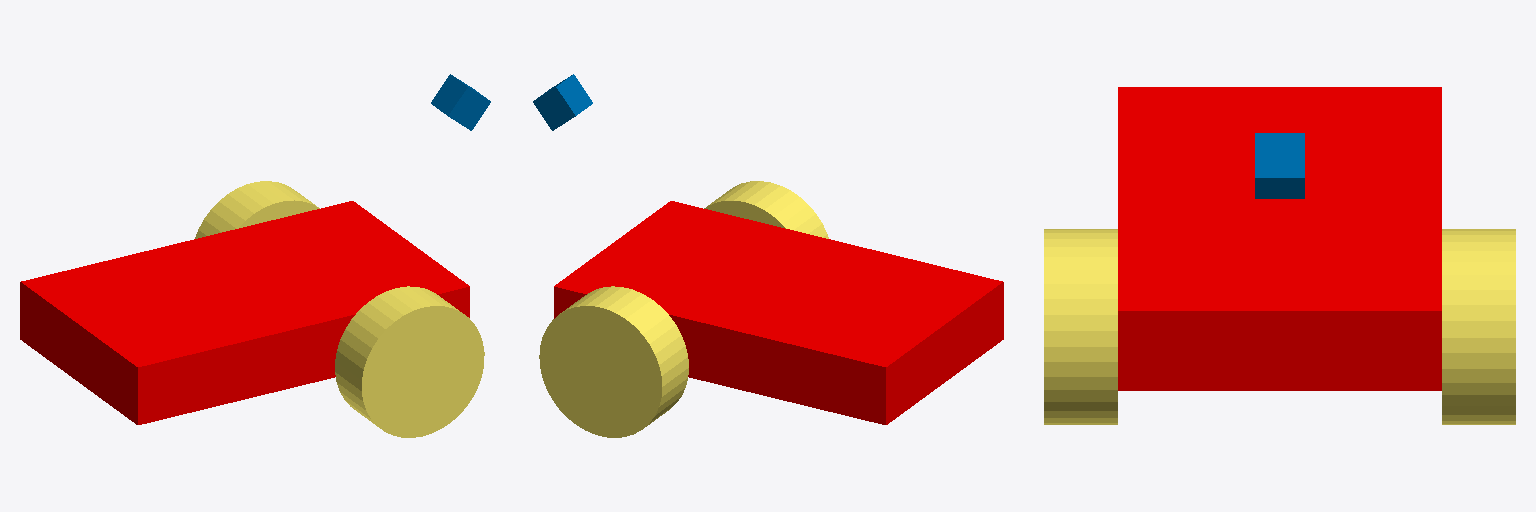
robot.urdf — mobile_bot:
<robot
  name="mobile_bot">
  
<gazebo reference="camera">
    <material>Gazebo/Green</material>
    <sensor name="camera_1" type="camera">
      <update_rate>30</update_rate>
      <camera name="head">
        <horizontal_fov>2.0</horizontal_fov>
        <image>
          <width>640</width>
          <height>480</height>
          <format>B8G8R8</format>
        </image>
        <clip>
          <near>0.1</near>
          <far>200</far>
        </clip>
      </camera>
      <plugin filename="libgazebo_ros_camera.so" name="camera_controller">
        <alwaysOn>true</alwaysOn>
        <updateRate>0.0</updateRate>
        <cameraName>camera_node</cameraName>
        <imageTopicName>image/raw</imageTopicName>
        <cameraInfoTopicName>camera_info</cameraInfoTopicName>
        <frameName>camera</frameName>
        <hackBaseline>0.07</hackBaseline>
      </plugin>
    </sensor>
  </gazebo>


  <!--gazebo>
    <plugin filename="libgazebo_ros_diff_drive.so" name="differential_drive_controller">
      <legacyMode>false</legacyMode>
      <alwaysOn>true</alwaysOn>
      <updateRate>30</updateRate>
      <leftJoint>left_wheel_joint</leftJoint>
      <rightJoint>right_wheel_joint</rightJoint>
      <wheelSeparation>0.4</wheelSeparation>
      <wheelDiameter>0.2</wheelDiameter>
      <torque>100</torque>
      <commandTopic>cmd_vel</commandTopic>
      <odometryTopic>odom</odometryTopic>
      <odometryFrame>odom</odometryFrame>
      <robotBaseFrame>base_link</robotBaseFrame>
    </plugin>
  </gazebo-->


  <gazebo reference="base_link">
    <material>Gazebo/Red</material>
    <maxVel>0.0</maxVel>
    <minDepth>0.001</minDepth>
    <kp>1000000.0</kp>
    <kd>1.0</kd>
    <mu1>0.8</mu1>
    <mu2>0.8</mu2>
  <sensor name="collision_sensor" type="contact">
       <plugin name="gazebo_ros_bumper_controller" filename="libgazebo_ros_bumper.so"> 
            <bumperTopicName>state_bumper</bumperTopicName>
            <framename>world</framename>
            <alwayson>true</alwayson>
            <updaterate>1000.0</updaterate>
        </plugin>
          <always_on>true</always_on>
          <update_rate>50</update_rate>
          <contact>
            <collision>base_link_collision</collision>
          </contact>
        </sensor>
  </gazebo>
  
  
  <gazebo reference="left_wheel_link">
    <material>Gazebo/Blue</material>
    <maxVel>0.0</maxVel>
    <minDepth>0.001</minDepth>
    <kp>1000000.0</kp>
    <kd>1.0</kd>
    <mu1>0.8</mu1>
    <mu2>0.8</mu2>
  </gazebo>
  <gazebo reference="right_wheel_link">
    <material>Gazebo/Blue</material>
    <maxVel>0.0</maxVel>
    <minDepth>0.001</minDepth>
    <kp>1000000.0</kp>
    <kd>1.0</kd>
    <mu1>0.8</mu1>
    <mu2>0.8</mu2>
  </gazebo>
  <gazebo reference="aux_link">
    <material>Gazebo/Red</material>
    <maxVel>0.0</maxVel>
    <minDepth>0.001</minDepth>
    <kp>1000000.0</kp>
    <kd>1.0</kd>
    <mu1>0.8</mu1>
    <mu2>0.8</mu2>
  </gazebo>
  <gazebo reference="camera">
    <material>Gazebo/Green</material>
  </gazebo>


  <link
    name="base_link">
    <inertial>
      <origin
        xyz="-0.00622184359431738 0 -0.047659128690172"
        rpy="0 0 0" />
      <mass
        value="16.7087028099849" />
      <inertia
        ixx="0.160357541339885"
        ixy="-5.57452292081756E-17"
        ixz="-0.0066103014196117"
        iyy="0.420002910112563"
        iyz="-5.47104712094305E-19"
        izz="0.55283314314957" />
    </inertial>
    <visual>
      <origin
        xyz="0 0 0"
        rpy="0 0 0" />
      <geometry>
        <mesh
          filename="package://mobile_bot/meshes/base_link.STL" />
      </geometry>
      <material
        name="">
        <color
          rgba="1 0 0 1" />
      </material>
    </visual>
    <collision>
      <geometry>
        <mesh
          filename="package://mobile_bot/meshes/base_link.STL" />
      </geometry>
    </collision>
  </link>
  <link
    name="left_wheel_link">
    <inertial>
      <origin
        xyz="0 -0.0375 0"
        rpy="0 0 0" />
      <mass
        value="2.35619449019235" />
      <inertia
        ixx="0.00699495239275853"
        ixy="1.35525271560688E-19"
        ixz="1.69657916167962E-50"
        iyy="0.0117809724509617"
        iyz="-1.70747651256053E-35"
        izz="0.00699495239275852" />
    </inertial>
    <visual>
      <origin
        xyz="0 0 0"
        rpy="0 0 0" />
      <geometry>
        <mesh
          filename="package://mobile_bot/meshes/left_wheel_link.STL" />
      </geometry>
      <material
        name="">
        <color
          rgba="1 0.941176470588235 0.435294117647059 1" />
      </material>
    </visual>
    <collision>
      <origin xyz="0 0 0" rpy="0 1.57 1.57"/>
      <geometry>
        <!--mesh
          filename="package://mobile_bot/meshes/left_wheel_link.STL" /-->
          <cylinder radius="0.1" length="0.05"/>
      </geometry>
    </collision>
  </link>
  <joint
    name="left_wheel_joint"
    type="continuous">
    <origin
      xyz="0.15 0.24 -0.0744721543908269"
      rpy="0 0 0" />
    <parent
      link="base_link" />
    <child
      link="left_wheel_link" />
    <axis
      xyz="0 1 0" />
  </joint>
  <link
    name="right_wheel_link">
    <inertial>
      <origin
        xyz="0 0.0375 0"
        rpy="0 0 0" />
      <mass
        value="2.35619449019234" />
      <inertia
        ixx="0.00699495239275852"
        ixy="6.77626357803441E-20"
        ixz="-2.03287907341032E-19"
        iyy="0.0117809724509617"
        iyz="6.24669226564202E-35"
        izz="0.00699495239275852" />
    </inertial>
    <visual>
      <origin
        xyz="0 0 0"
        rpy="0 0 0" />
      <geometry>
        <mesh
          filename="package://mobile_bot/meshes/right_wheel_link.STL" />
      </geometry>
      <material
        name="">
        <color
          rgba="1 0.941176470588235 0.435294117647059 1" />
      </material>
    </visual>
    <collision>
      <origin xyz="0 0 0" rpy="0 1.57 1.57"/>
      <geometry>
        <!--mesh
          filename="package://mobile_bot/meshes/right_wheel_link.STL" /-->
          <cylinder radius="0.1" length="0.05"/>
      </geometry>
    </collision>
  </link>
  <joint
    name="right_wheel_joint"
    type="continuous">
    <origin
      xyz="0.15 -0.24 -0.0744721543908269"
      rpy="0 0 0" />
    <parent
      link="base_link" />
    <child
      link="right_wheel_link" />
    <axis
      xyz="0 1 0" />
  </joint>
  <link
    name="aux_link">
    <inertial>
      <origin
        xyz="0 0 1.1102E-16"
        rpy="0 0 0" />
      <mass
        value="0.17959" />
      <inertia
        ixx="8.8001E-05"
        ixy="0"
        ixz="0"
        iyy="8.8001E-05"
        iyz="0"
        izz="8.8001E-05" />
    </inertial>
    <visual>
      <origin
        xyz="0 0 0"
        rpy="0 0 0" />
      <geometry>
        <mesh
          filename="package://mobile_bot/meshes/aux_link.STL" />
      </geometry>
      <material
        name="">
        <color
          rgba="0.79216 0.81961 0.93333 1" />
      </material>
    </visual>
    <collision>
      <origin xyz="0 0 0" rpy="0 1.57 1.57"/>
      <geometry>
        <!--mesh
          filename="package://mobile_bot/meshes/aux_link.STL" /-->
          <cylinder radius="0.039" length="0.05"/>
      </geometry>
    </collision>
  </link>
  <joint
    name="aux_wheel_joint"
    type="continuous">
    <origin
      xyz="-0.155 0 -0.135"
      rpy="0 0 0" />
    <parent
      link="base_link" />
    <child
      link="aux_link" />
    <axis
      xyz="0 1 0" />
  </joint>

  <link name="camera">
    <collision>
      <geometry>
        <box size="0.05 0.05 0.05"/>
      </geometry>
    </collision>
    <visual>
      <origin rpy="0 0 0" xyz="0 0 0"/>
      <geometry>
        <box size="0.05 0.05 0.05"/>
      </geometry>
    </visual>
    <inertial>
      <mass value="0.1"/>
      <origin rpy="0 0 0" xyz="0 0 0"/>
      <box_inertia m="0.1" x="0.05" y="0.05" z="0.05"/>
      <inertia ixx="1e-6" ixy="0" ixz="0" iyy="1e-6" iyz="0" izz="1e-6"/>
    </inertial>
  </link>
  <joint name="camera_joint" type="fixed">
    <axis xyz="0 1 0"/>
    <origin rpy="0 0.7 0" xyz=".35 0 .20"/>
    <parent link="base_link"/>
    <child link="camera"/>
  </joint>

  <gazebo>
    <plugin name="gazebo_ros_control" filename="libgazebo_ros_control.so">
      <robotNamespace>/rose</robotNamespace>
    </plugin>
  </gazebo>

		<transmission name="left_wheel" type="SimpleTransmission">
			<type>transmission_interface/SimpleTransmission</type>
			<actuator name="left_wheel_wheel_motor">
				<mechanicalReduction>1</mechanicalReduction>
			</actuator>
			<joint name="left_wheel_joint">
				<hardwareInterface>hardware_interface/VelocityJointInterface</hardwareInterface>
			</joint>
		</transmission>

		<transmission name="right_wheel" type="SimpleTransmission">
			<type>transmission_interface/SimpleTransmission</type>
			<actuator name="right_wheel_motor">
				<mechanicalReduction>1</mechanicalReduction>
			</actuator>
			<joint name="right_wheel_joint">
				<hardwareInterface>hardware_interface/VelocityJointInterface</hardwareInterface>
			</joint>
		</transmission>

</robot>

--- Facts derived from the render (not from the file) ---
3 views of the same robot in one strip: view 1: azimuth 30°, elevation 25°; view 2: azimuth 150°, elevation 25°; view 3: azimuth 270°, elevation 25° (orthographic).
Model mobile_bot with 5 links and 4 joints (3 continuous, 1 fixed), rooted at base_link, posed every joint at zero.
Links seen in each view (by area): view 1: base_link, right_wheel_link, left_wheel_link, camera; view 2: base_link, left_wheel_link, right_wheel_link, camera; view 3: base_link, left_wheel_link, right_wheel_link, camera.
Boxes of the visible links, bbox=[...] form: base_link: bbox=[20, 201, 469, 424]; right_wheel_link: bbox=[335, 286, 484, 437]; left_wheel_link: bbox=[195, 181, 319, 238]; camera: bbox=[431, 74, 490, 130]; base_link: bbox=[554, 201, 1003, 424]; left_wheel_link: bbox=[539, 286, 688, 437]; right_wheel_link: bbox=[704, 181, 828, 238]; camera: bbox=[533, 74, 592, 130]; base_link: bbox=[1118, 87, 1441, 390]; left_wheel_link: bbox=[1442, 229, 1515, 424]; right_wheel_link: bbox=[1044, 229, 1117, 424]; camera: bbox=[1255, 133, 1304, 198].
Bounding box of the posed robot: 0.6552 × 0.48 × 0.4097 m (x, y, z).
4 mesh visuals loaded from 4 distinct referenced files (4 binary STL).